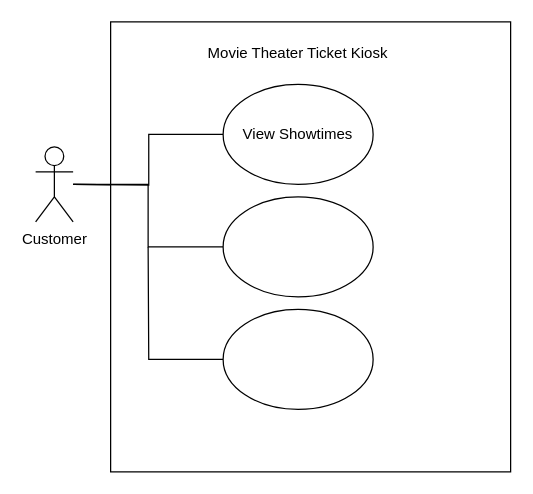
Some shapes in this 533 by 494 pixel diagram are drawn without their labels. Here are the shapes that lost their labels. From the top down, the centre of each, then its label:
At [297,246]: "Select Seat".
At [297,358]: "Purchase Ticket".
